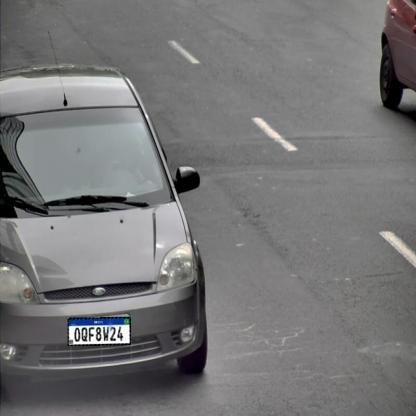PlacaM: (68, 317, 131, 346)
